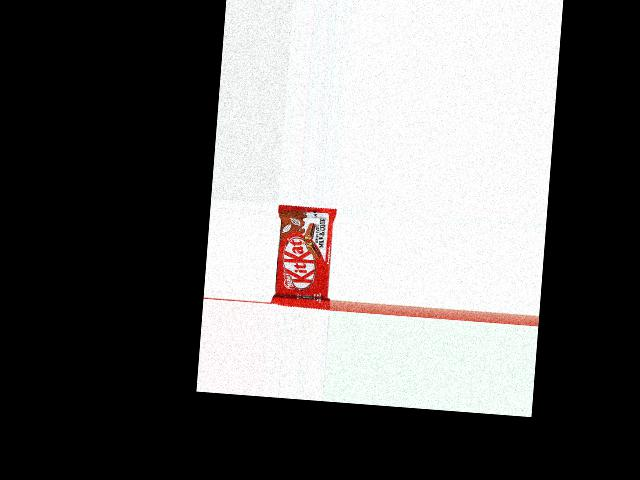chocolate: (270, 203, 337, 309)
